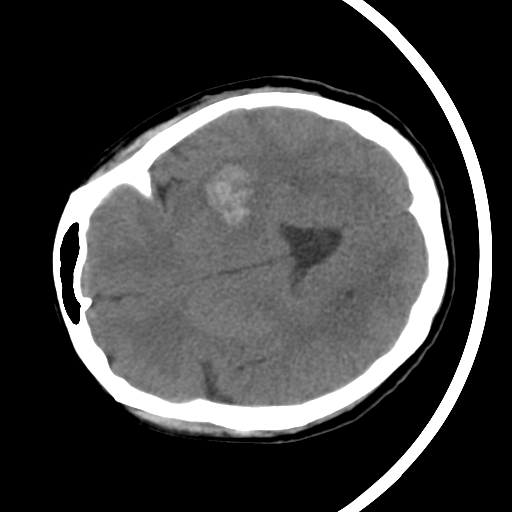a: (185, 143, 275, 250)
